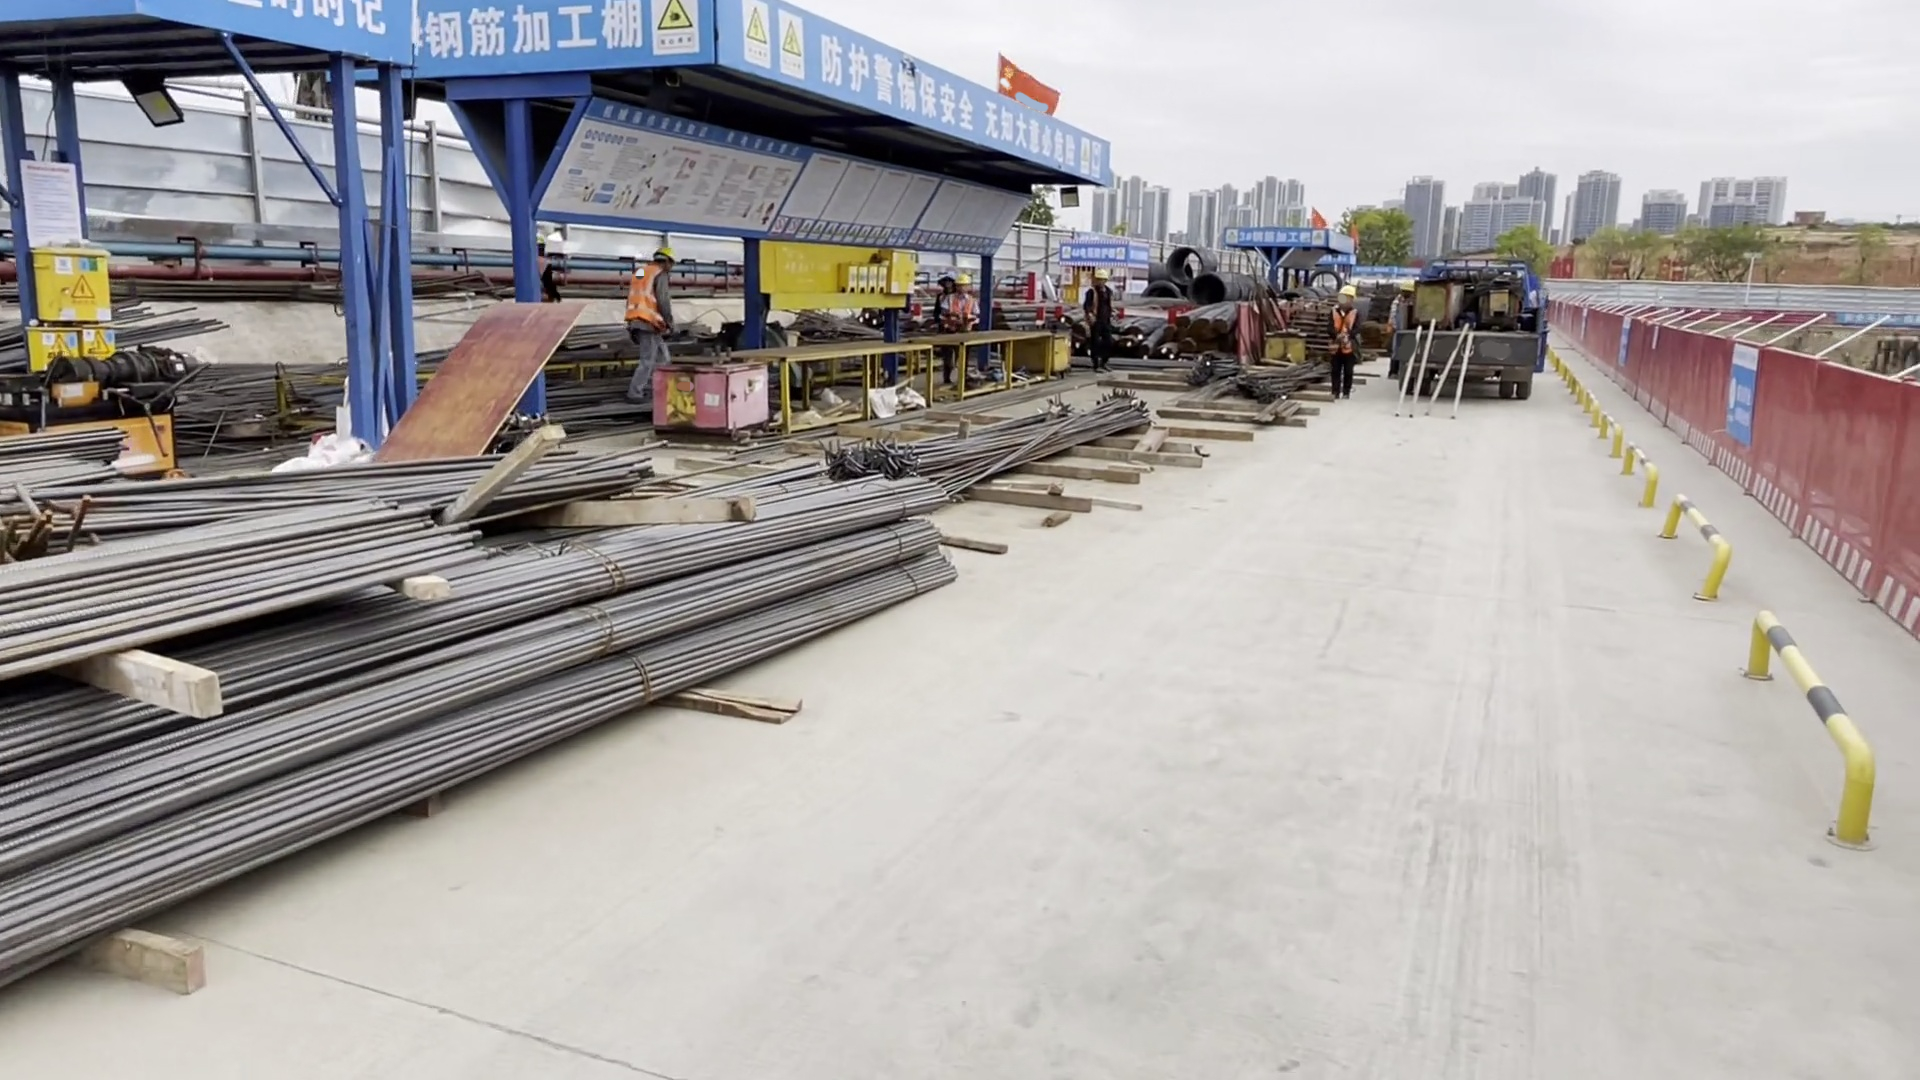board: (366, 304, 593, 460)
ebox: (29, 251, 115, 376), (838, 248, 918, 294), (1489, 289, 1511, 316)
fence: (1643, 324, 1920, 616), (42, 87, 501, 248)
helmet: (1341, 284, 1360, 299), (658, 245, 676, 260), (956, 274, 976, 286), (1396, 281, 1416, 293), (1093, 268, 1110, 280), (940, 272, 954, 282)
person: (626, 241, 684, 404), (1084, 259, 1122, 376), (1328, 281, 1359, 405), (952, 268, 984, 386), (527, 222, 567, 310), (1390, 272, 1415, 388), (936, 267, 955, 387)
rebar: (1, 488, 929, 995), (822, 388, 1169, 493)
slogan: (753, 32, 1130, 187), (399, 1, 702, 60), (1723, 342, 1767, 447), (1231, 229, 1323, 245), (1062, 245, 1126, 261)
vest: (630, 269, 664, 320), (1088, 287, 1118, 327), (951, 296, 981, 331), (1332, 308, 1353, 356), (939, 292, 953, 333)
